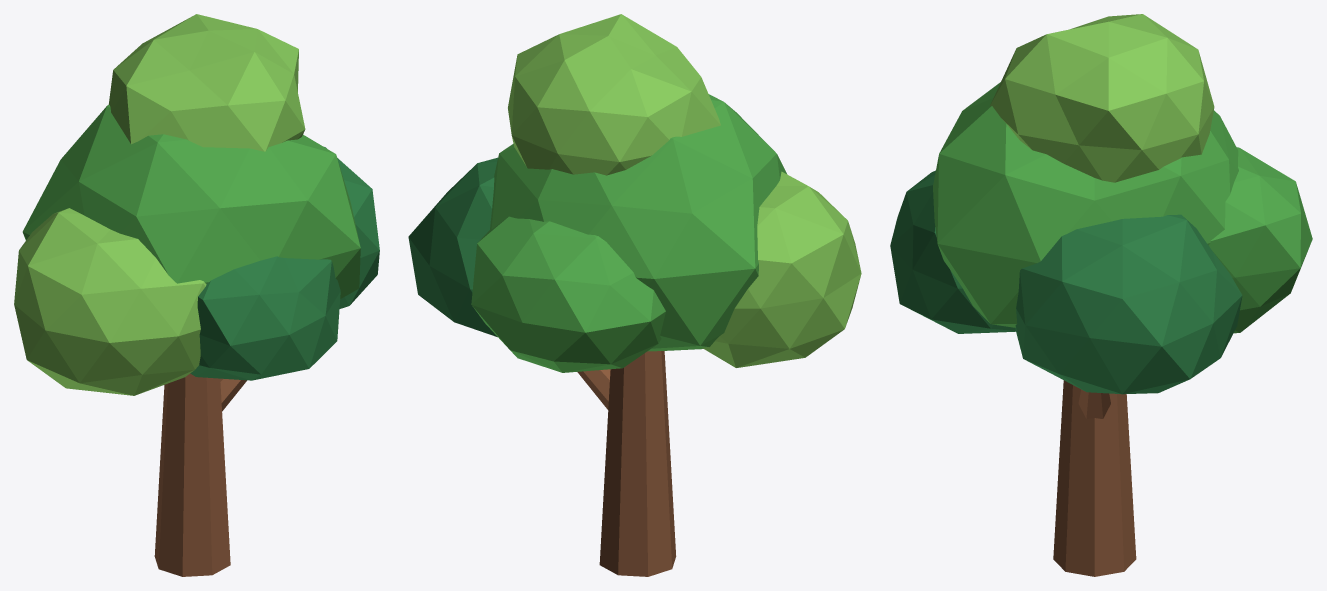
Rendered from tree_oak.glb.
3 views of the same model, side by side, from view 1: azimuth 30°, elevation 25°; view 2: azimuth 150°, elevation 25°; view 3: azimuth 270°, elevation 25° (orthographic). The views are drawn at different scales.
Parts seen in each view (by area): view 1: tree_oak; view 2: tree_oak; view 3: tree_oak.
Boxes of the visible parts, x1,y1,x2,y2 form: tree_oak: (14, 14, 379, 576); tree_oak: (408, 14, 861, 576); tree_oak: (890, 14, 1312, 576).
Bounding box in the file's own units: 3.36 × 4.38 × 3.05.
